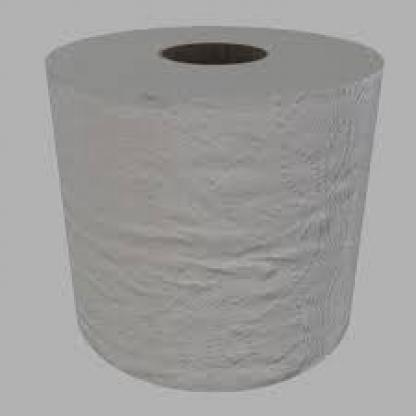tissue: (23, 20, 383, 394)
